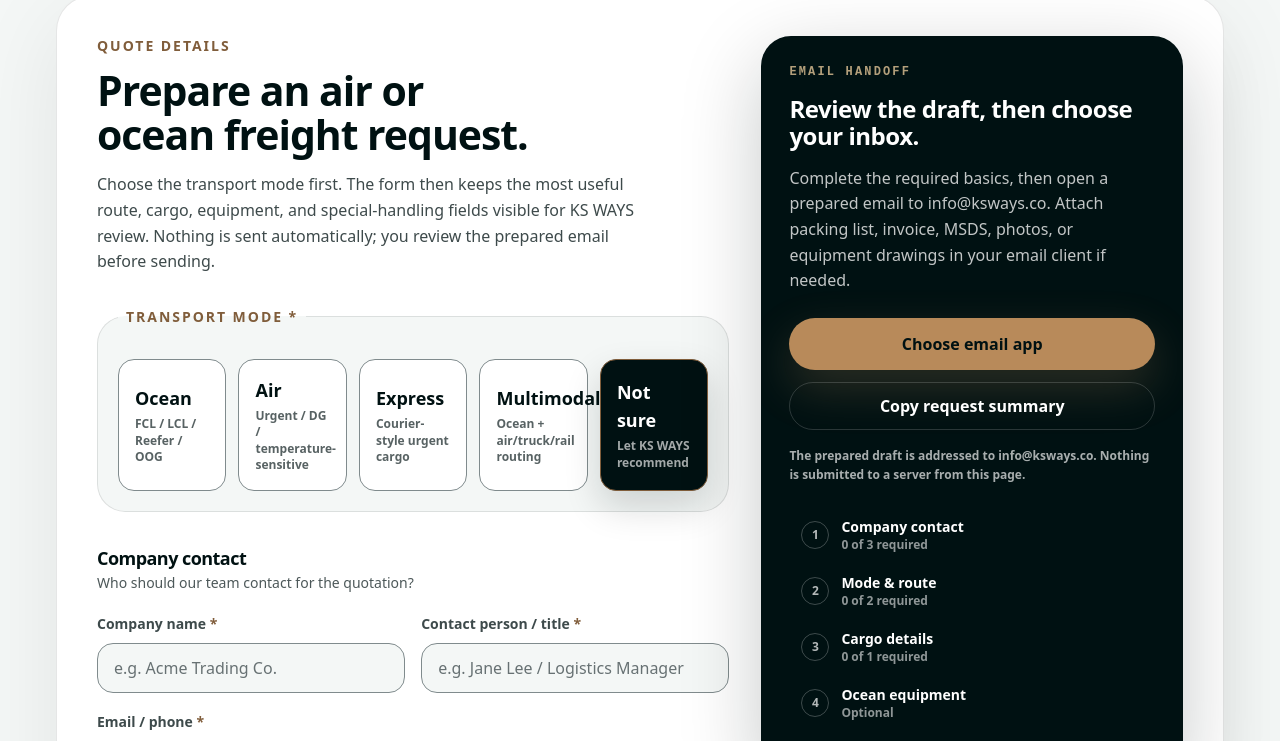
it: QuoteForm interactions › blocks the email draft and lists missing required fields
The width and height of the screenshot is (1280, 741).
Click the button "Choose email app" at (972, 344), box [789,318,1155,370]
(page scrolled)
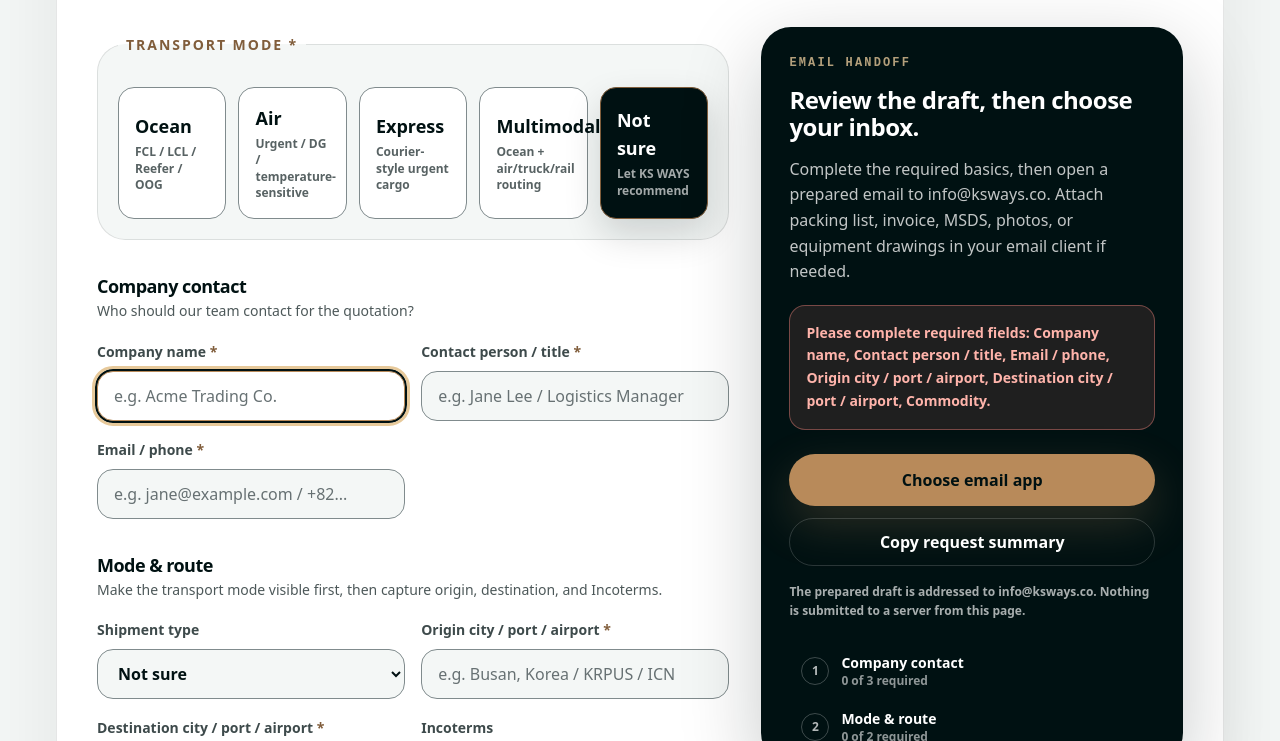
Expected: the message shows "Company name", [806,323,1113,410]
